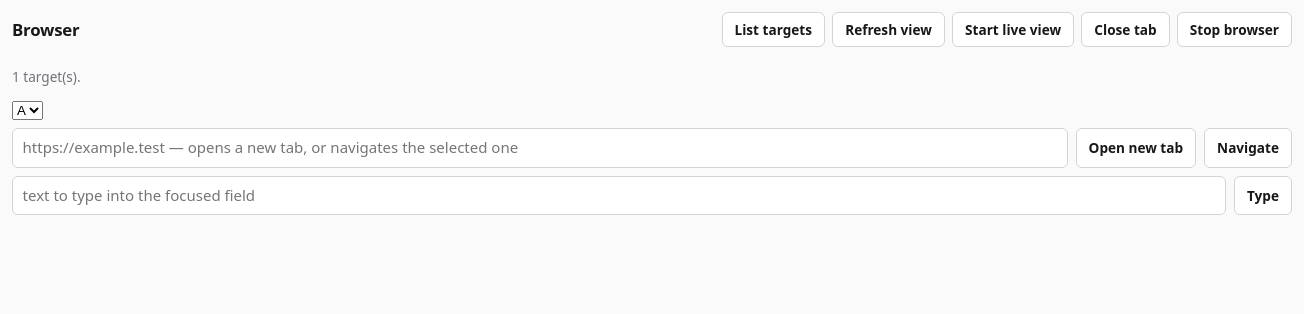
Test: BrowserPane › stops the browser and clears the targets, the picture and the selection
Expected: the text "1 target(s)." is shown, [12,67,81,86]
Click the button "Refresh view".
click(889, 30)  # box [832,12,945,47]
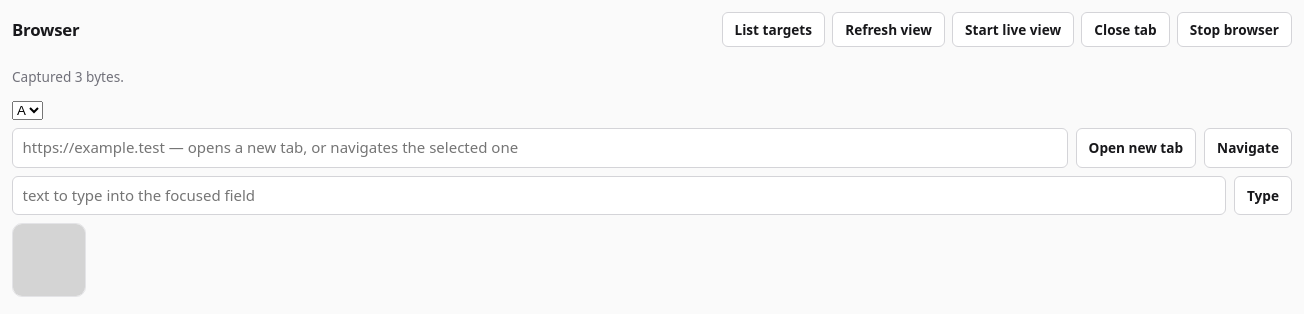
Click the button "Stop browser".
click(1234, 30)  # box [1177,12,1292,47]
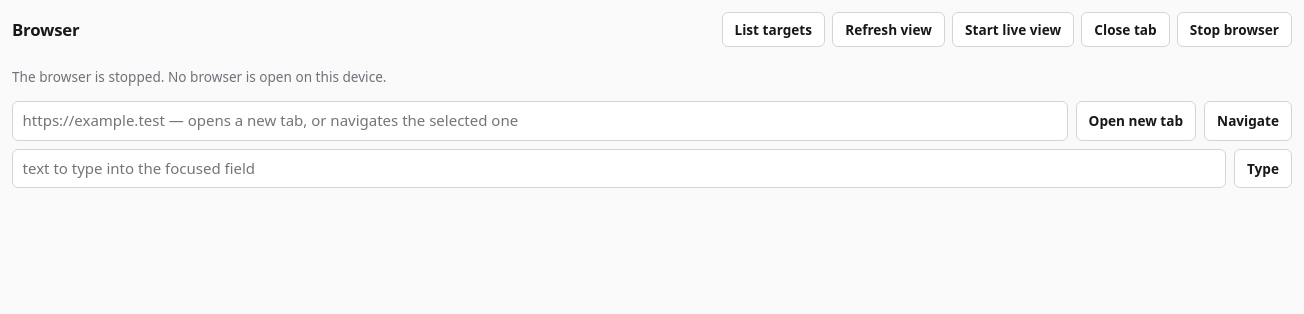
Result: the text "The browser is stopped. No browser is open on this device." is shown at [12,67,386,86]
Result: the picture with class "browser-shot" is gone
